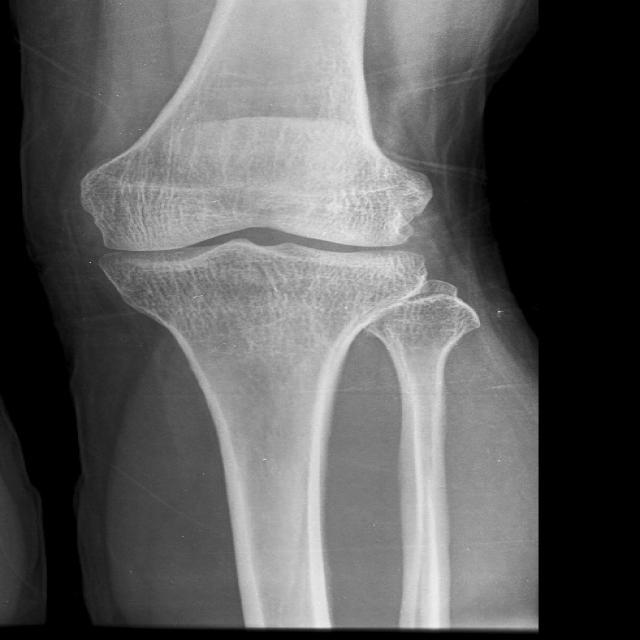osteo: (76, 157, 442, 295)
